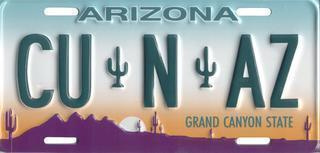placa de veiculo: (8, 1, 312, 147)
